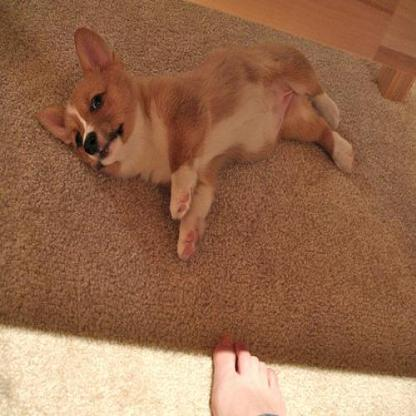Pembroke: (30, 24, 355, 258)
